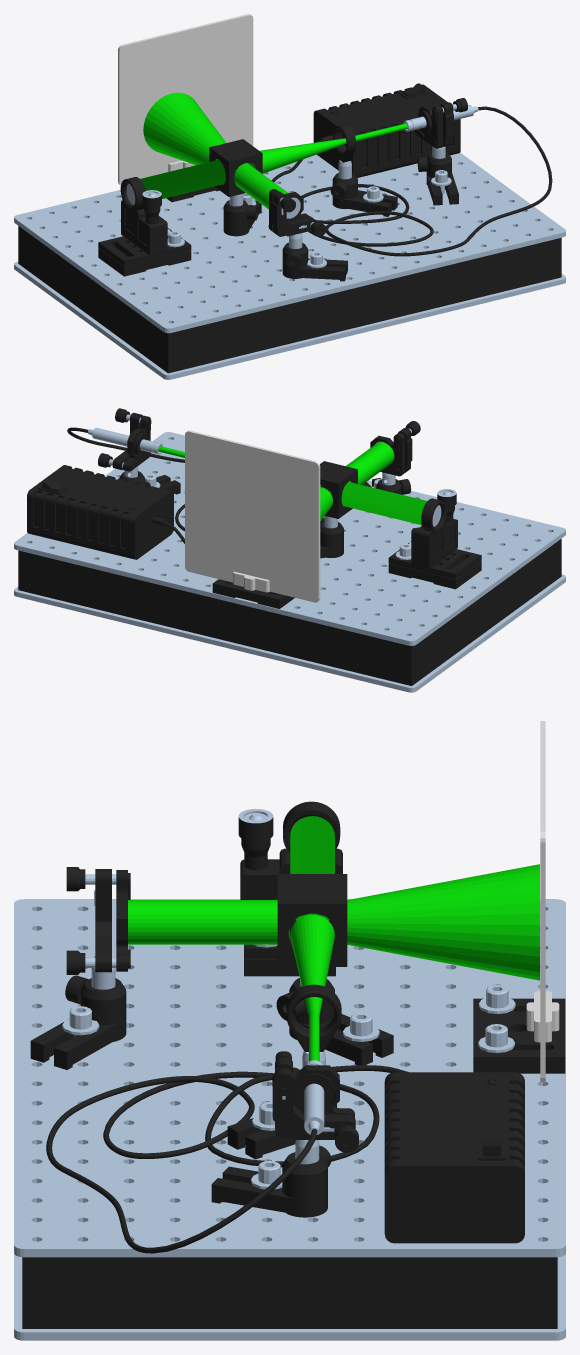
3 renders of one model, top to bottom at view 1: azimuth 30°, elevation 25°; view 2: azimuth 150°, elevation 25°; view 3: azimuth 270°, elevation 25°, orthographic. The views are drawn at different scales.
Parts seen in each view (by area): view 1: Base, Schirm, LaserBeam, SD5, TranslateMirror, Mirror1, Laser; view 2: Base, Schirm, SD5, TranslateMirror, LaserBeam, Laser, Mirror1; view 3: Base, LaserBeam, SD5, Laser, Mirror1, Schirm, TranslateMirror.
Boxes of the visible parts, x1=… form: Base: x1=14, y1=106, x2=565, y2=379; Schirm: x1=118, y1=14, x2=253, y2=202; LaserBeam: x1=140, y1=92, x2=407, y2=209; SD5: x1=313, y1=83, x2=460, y2=177; TranslateMirror: x1=98, y1=177, x2=191, y2=276; Mirror1: x1=268, y1=189, x2=347, y2=281; Laser: x1=403, y1=98, x2=478, y2=205; Base: x1=14, y1=427, x2=565, y2=692; Schirm: x1=185, y1=430, x2=320, y2=608; SD5: x1=27, y1=465, x2=173, y2=559; TranslateMirror: x1=388, y1=489, x2=481, y2=589; LaserBeam: x1=158, y1=442, x2=427, y2=524; Laser: x1=87, y1=408, x2=180, y2=494; Mirror1: x1=362, y1=421, x2=420, y2=494; Base: x1=14, y1=874, x2=565, y2=1340; LaserBeam: x1=128, y1=816, x2=539, y2=1061; SD5: x1=384, y1=1072, x2=524, y2=1243; Laser: x1=211, y1=1051, x2=358, y2=1217; Mirror1: x1=30, y1=867, x2=130, y2=1069; Schirm: x1=473, y1=721, x2=565, y2=1082; TranslateMirror: x1=238, y1=801, x2=342, y2=976.
Size of the model in its own units: 4.87 by 2.16 by 3.
